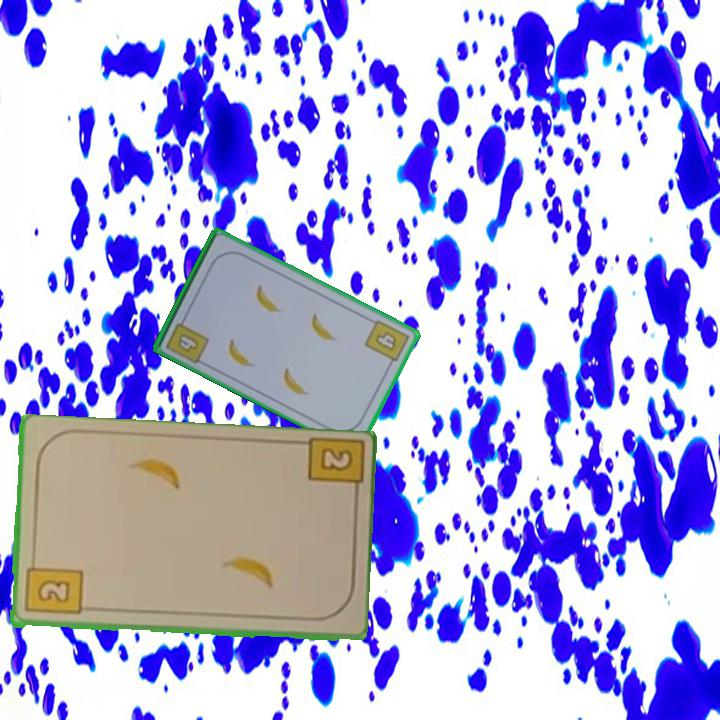2b: (302, 436, 363, 504), (21, 555, 84, 618)
4b: (361, 316, 412, 370), (162, 312, 212, 367)
